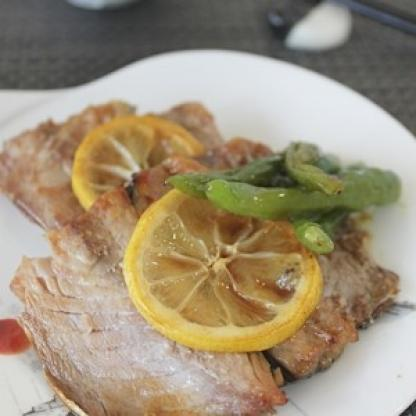Peixe: (0, 87, 348, 416)
